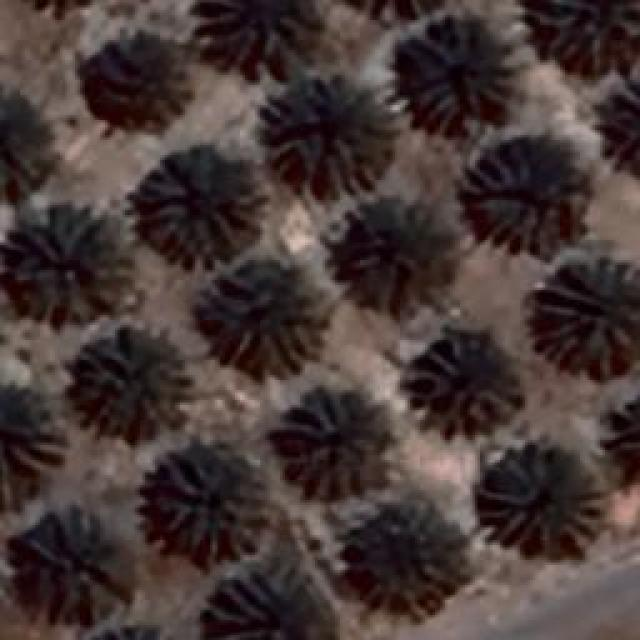PalmTree: (41, 114, 401, 254), (248, 72, 400, 198), (12, 202, 138, 322), (478, 448, 608, 558), (398, 14, 520, 128), (75, 325, 195, 440), (280, 385, 398, 500), (530, 258, 638, 380), (460, 148, 578, 258), (132, 152, 250, 260), (210, 274, 330, 378), (150, 450, 262, 558), (400, 332, 520, 432), (105, 103, 620, 124), (352, 512, 466, 606), (22, 520, 126, 618), (92, 36, 196, 126), (216, 567, 333, 640), (195, 0, 318, 68), (530, 0, 638, 70), (0, 375, 50, 503), (0, 92, 50, 192), (611, 386, 640, 492), (78, 620, 188, 640), (331, 0, 452, 17), (75, 624, 188, 640), (9, 0, 114, 16), (326, 0, 454, 11), (9, 0, 114, 10)
